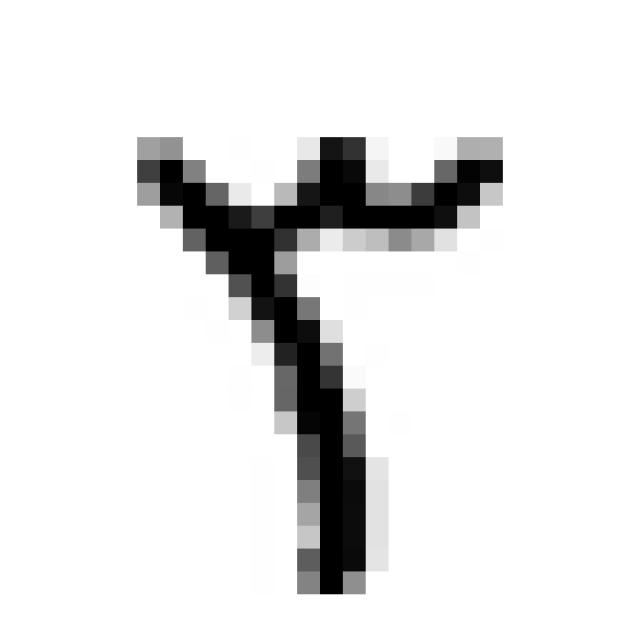3 -three-: (112, 103, 527, 603)
